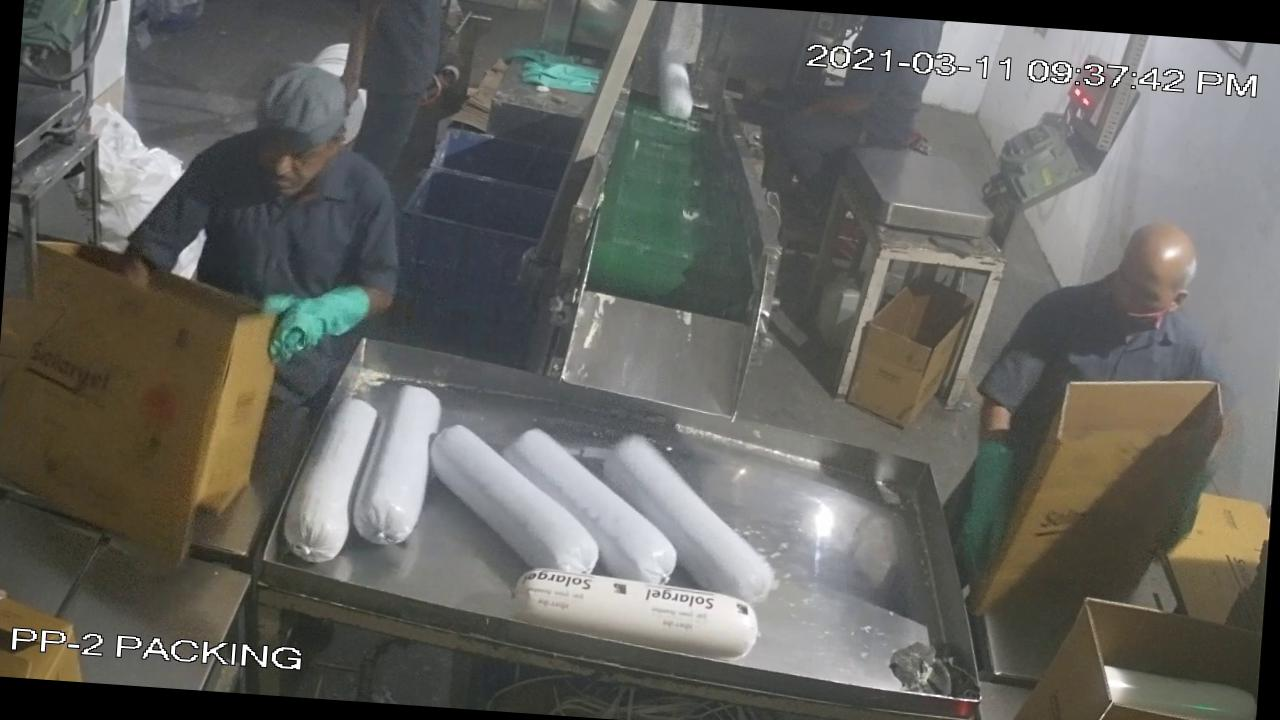Gloves: (941, 426, 1046, 603), (251, 272, 381, 380)
No-gloves: (782, 70, 886, 142), (327, 0, 377, 109)
